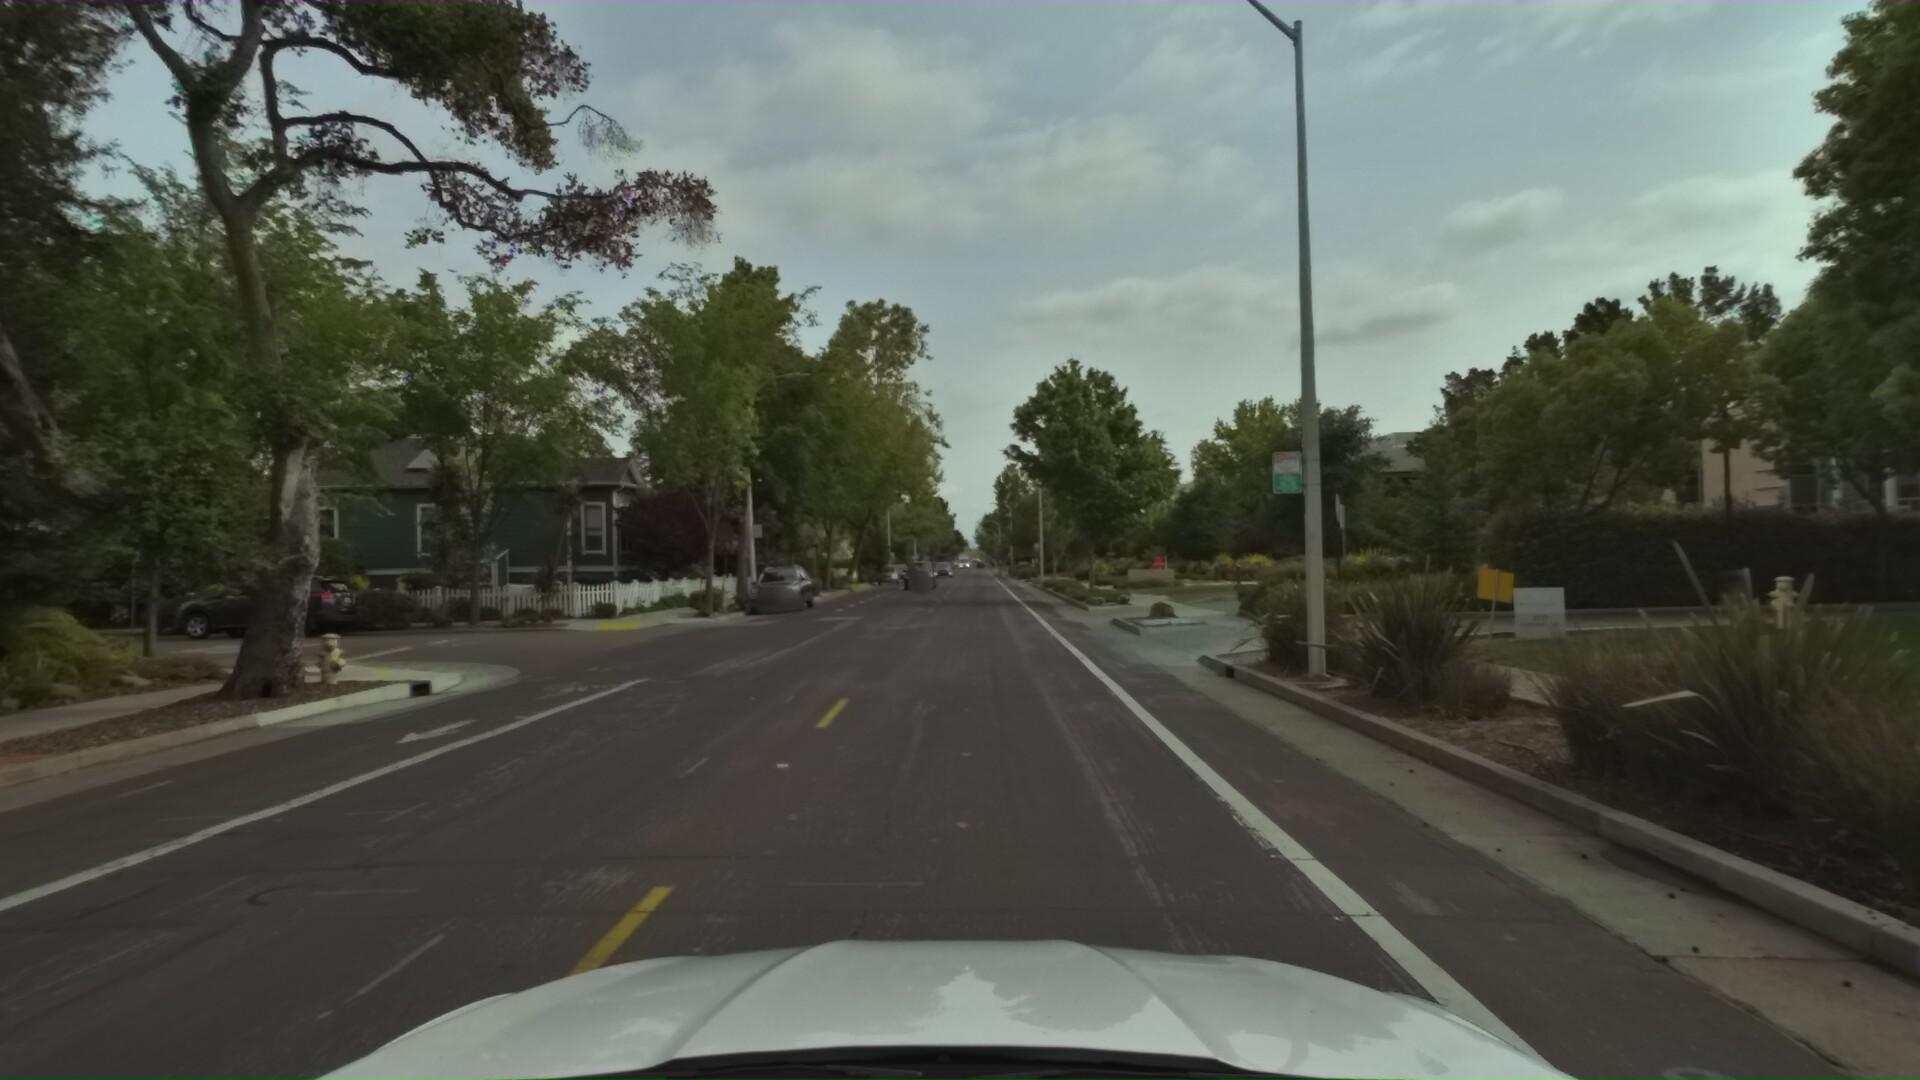car: (157, 571, 368, 647), (742, 564, 818, 618), (895, 559, 935, 591), (876, 564, 899, 585)
